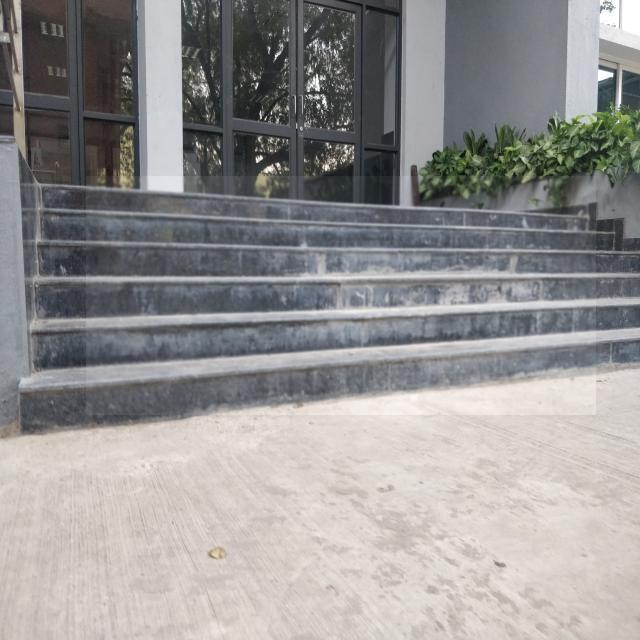stair: (86, 176, 596, 415)
